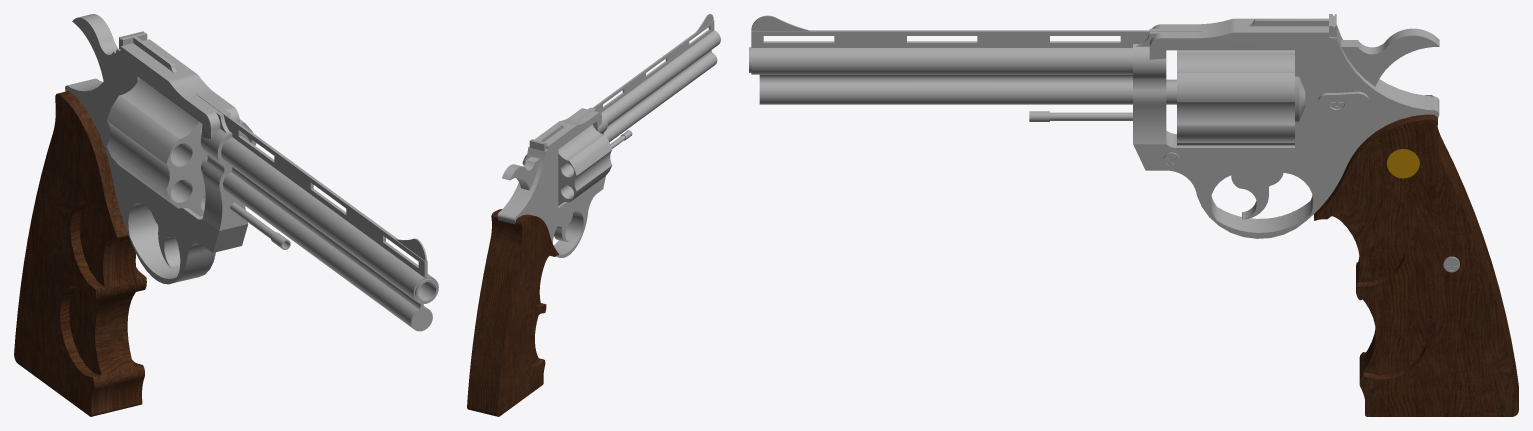
Rendered from 357 Magnum.dae.
The picture shows the model from 3 angles, left to right: view 1: azimuth 30°, elevation 25°; view 2: azimuth 150°, elevation 25°; view 3: azimuth 270°, elevation 25°; orthographic projection. The views are drawn at different scales.
Visible parts, largest first — view 1: mesh0%root%3%, mesh0%root%2%; view 2: mesh0%root%3%, mesh0%root%2%; view 3: mesh0%root%3%, mesh0%root%2%, mesh0%root%0%.
Part boxes in pixels (box(x1,y1,x2,y2)): mesh0%root%3%: box(65, 14, 438, 331); mesh0%root%2%: box(14, 91, 146, 416); mesh0%root%3%: box(497, 14, 720, 257); mesh0%root%2%: box(467, 209, 558, 416); mesh0%root%3%: box(749, 14, 1459, 272); mesh0%root%2%: box(1314, 95, 1518, 416); mesh0%root%0%: box(1387, 149, 1419, 178).
Bounding box in the file's own units: 0.0319 × 0.1313 × 0.2355.
